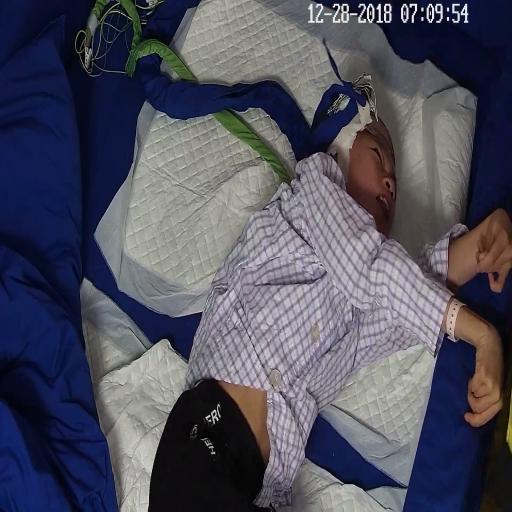Seizure: (340, 95, 399, 225)
